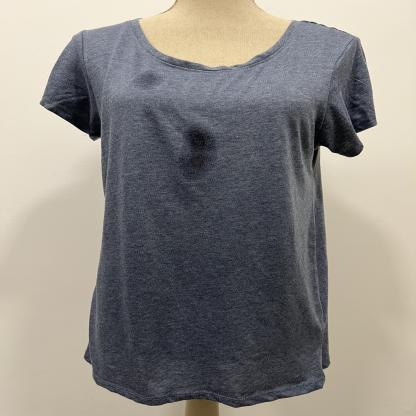stain: (174, 118, 223, 185), (127, 67, 169, 95)
